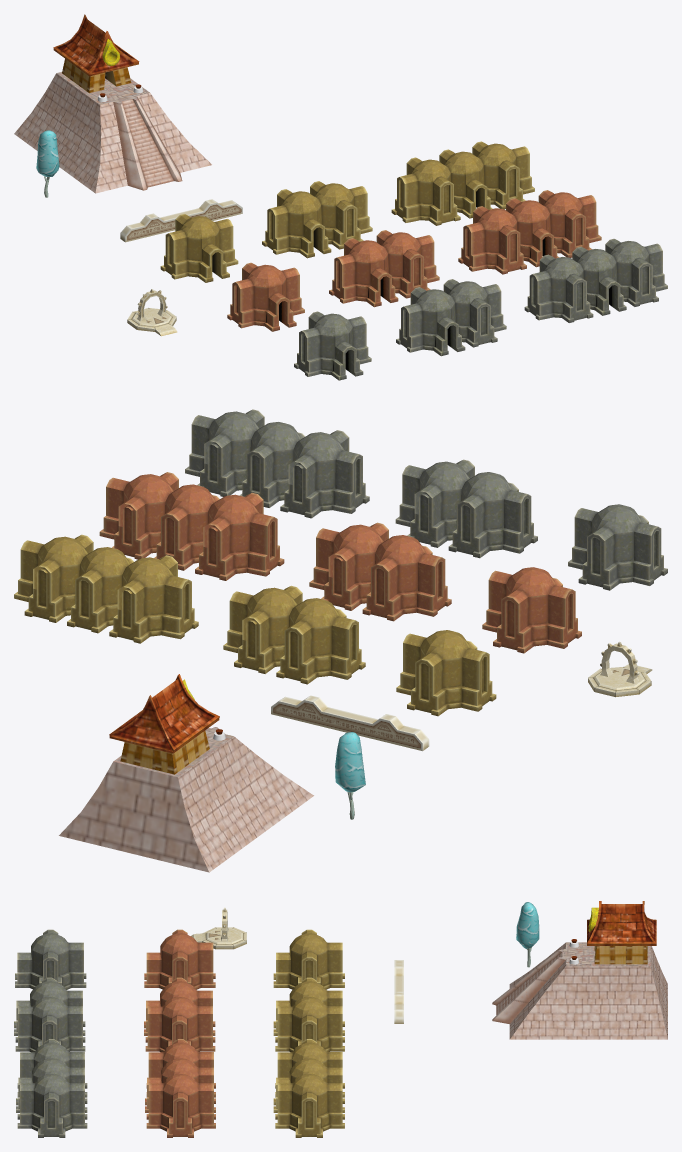
File: mundo1_exteriorAtlas.fbx
The picture shows the model from 3 angles, top to bottom: view 1: azimuth 30°, elevation 25°; view 2: azimuth 150°, elevation 25°; view 3: azimuth 270°, elevation 25°; orthographic projection. The views are drawn at different scales.
Parts seen in each view (by area): view 1: m1_templo, m1_casa_C2, m1_casa_C1, m1_casa_C, m1_casa_B2, m1_casa_B1, m1_casa_B, m1_casa_A, m1_casa_A2, m1_casa_A1, m1_valla, m1_portal (+1 smaller); view 2: m1_templo, m1_casa_C, m1_casa_C2, m1_casa_C1, m1_casa_B, m1_casa_B1, m1_casa_B2, m1_casa_A2, m1_casa_A1, m1_casa_A, m1_valla, m1_portal (+1 smaller); view 3: m1_templo, m1_casa_C, m1_casa_C2, m1_casa_C1, m1_casa_B1, m1_casa_B, m1_casa_B2, m1_casa_A1, m1_casa_A, m1_casa_A2, m1_portal, m1_arbol_Esp (+1 smaller).
Boxes of the visible parts, bbox=[...] form: m1_templo: bbox=[14, 14, 211, 193]; m1_casa_C2: bbox=[524, 238, 667, 322]; m1_casa_C1: bbox=[458, 190, 601, 274]; m1_casa_C: bbox=[391, 141, 534, 225]; m1_casa_B2: bbox=[396, 279, 506, 356]; m1_casa_B1: bbox=[329, 230, 439, 307]; m1_casa_B: bbox=[262, 181, 372, 258]; m1_casa_A: bbox=[160, 214, 238, 282]; m1_casa_A2: bbox=[294, 311, 371, 380]; m1_casa_A1: bbox=[227, 262, 304, 331]; m1_valla: bbox=[120, 199, 242, 242]; m1_portal: bbox=[127, 289, 177, 336]; m1_templo: bbox=[59, 674, 313, 872]; m1_casa_C: bbox=[14, 534, 198, 643]; m1_casa_C2: bbox=[185, 409, 369, 518]; m1_casa_C1: bbox=[99, 472, 284, 580]; m1_casa_B: bbox=[223, 585, 365, 684]; m1_casa_B1: bbox=[309, 522, 451, 621]; m1_casa_B2: bbox=[395, 459, 537, 558]; m1_casa_A2: bbox=[568, 504, 667, 590]; m1_casa_A1: bbox=[482, 567, 581, 653]; m1_casa_A: bbox=[396, 630, 496, 716]; m1_valla: bbox=[271, 695, 429, 751]; m1_portal: bbox=[588, 641, 652, 697]; m1_templo: bbox=[492, 901, 667, 1039]; m1_casa_C: bbox=[273, 1039, 344, 1137]; m1_casa_C2: bbox=[16, 1039, 87, 1137]; m1_casa_C1: bbox=[145, 1039, 215, 1137]; m1_casa_B1: bbox=[144, 977, 215, 1052]; m1_casa_B: bbox=[273, 977, 344, 1052]; m1_casa_B2: bbox=[14, 977, 85, 1052]; m1_casa_A1: bbox=[144, 929, 215, 989]; m1_casa_A: bbox=[273, 929, 344, 989]; m1_casa_A2: bbox=[15, 929, 86, 989]; m1_portal: bbox=[191, 907, 246, 949]; m1_arbol_Esp: bbox=[516, 902, 539, 967].
Bounding box in the file's own units: 34894 × 8759 × 46315.
1 material, 1 textured.
